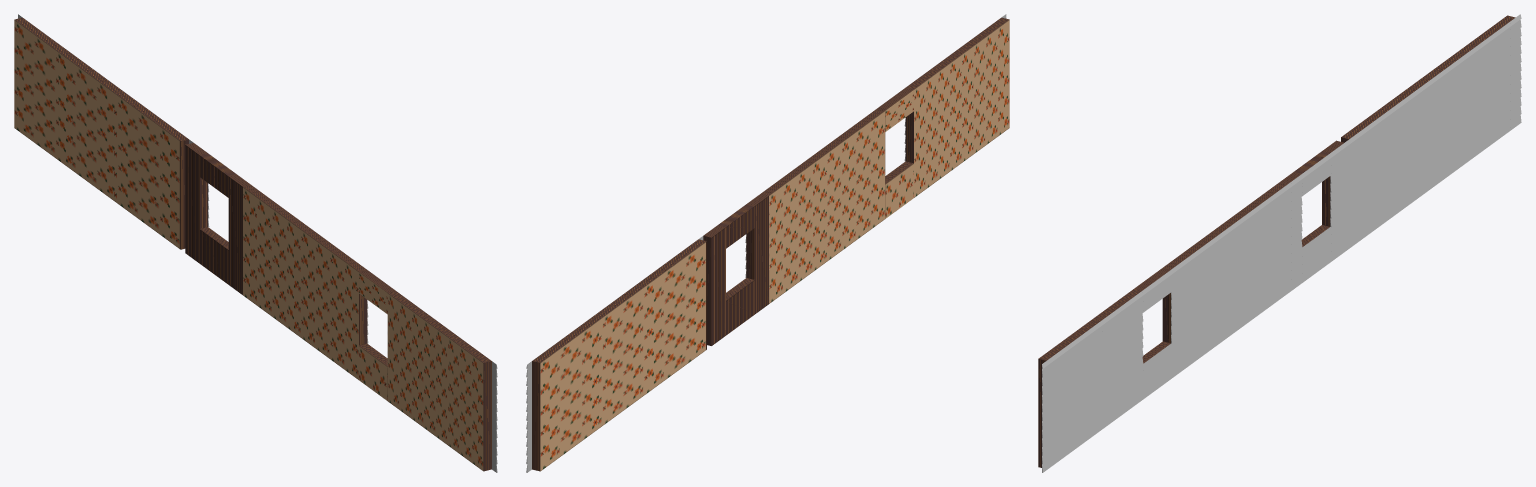
Rendered from Paredes_Externas_Derecha.obj.
3 renders of one model, left to right at view 1: azimuth 30°, elevation 25°; view 2: azimuth 150°, elevation 25°; view 3: azimuth 330°, elevation 25°, orthographic.
Parts seen in each view (by area): view 1: Paredes_Externas_Derecha; view 2: Paredes_Externas_Derecha; view 3: Paredes_Externas_Derecha.
Boxes of the visible parts, x1=… form: Paredes_Externas_Derecha: x1=14, y1=14, x2=497, y2=472; Paredes_Externas_Derecha: x1=526, y1=14, x2=1009, y2=472; Paredes_Externas_Derecha: x1=1038, y1=14, x2=1521, y2=472.
Size of the model in its own units: 0.1419 by 1.56 by 12.5.
2 materials, 1 textured.
